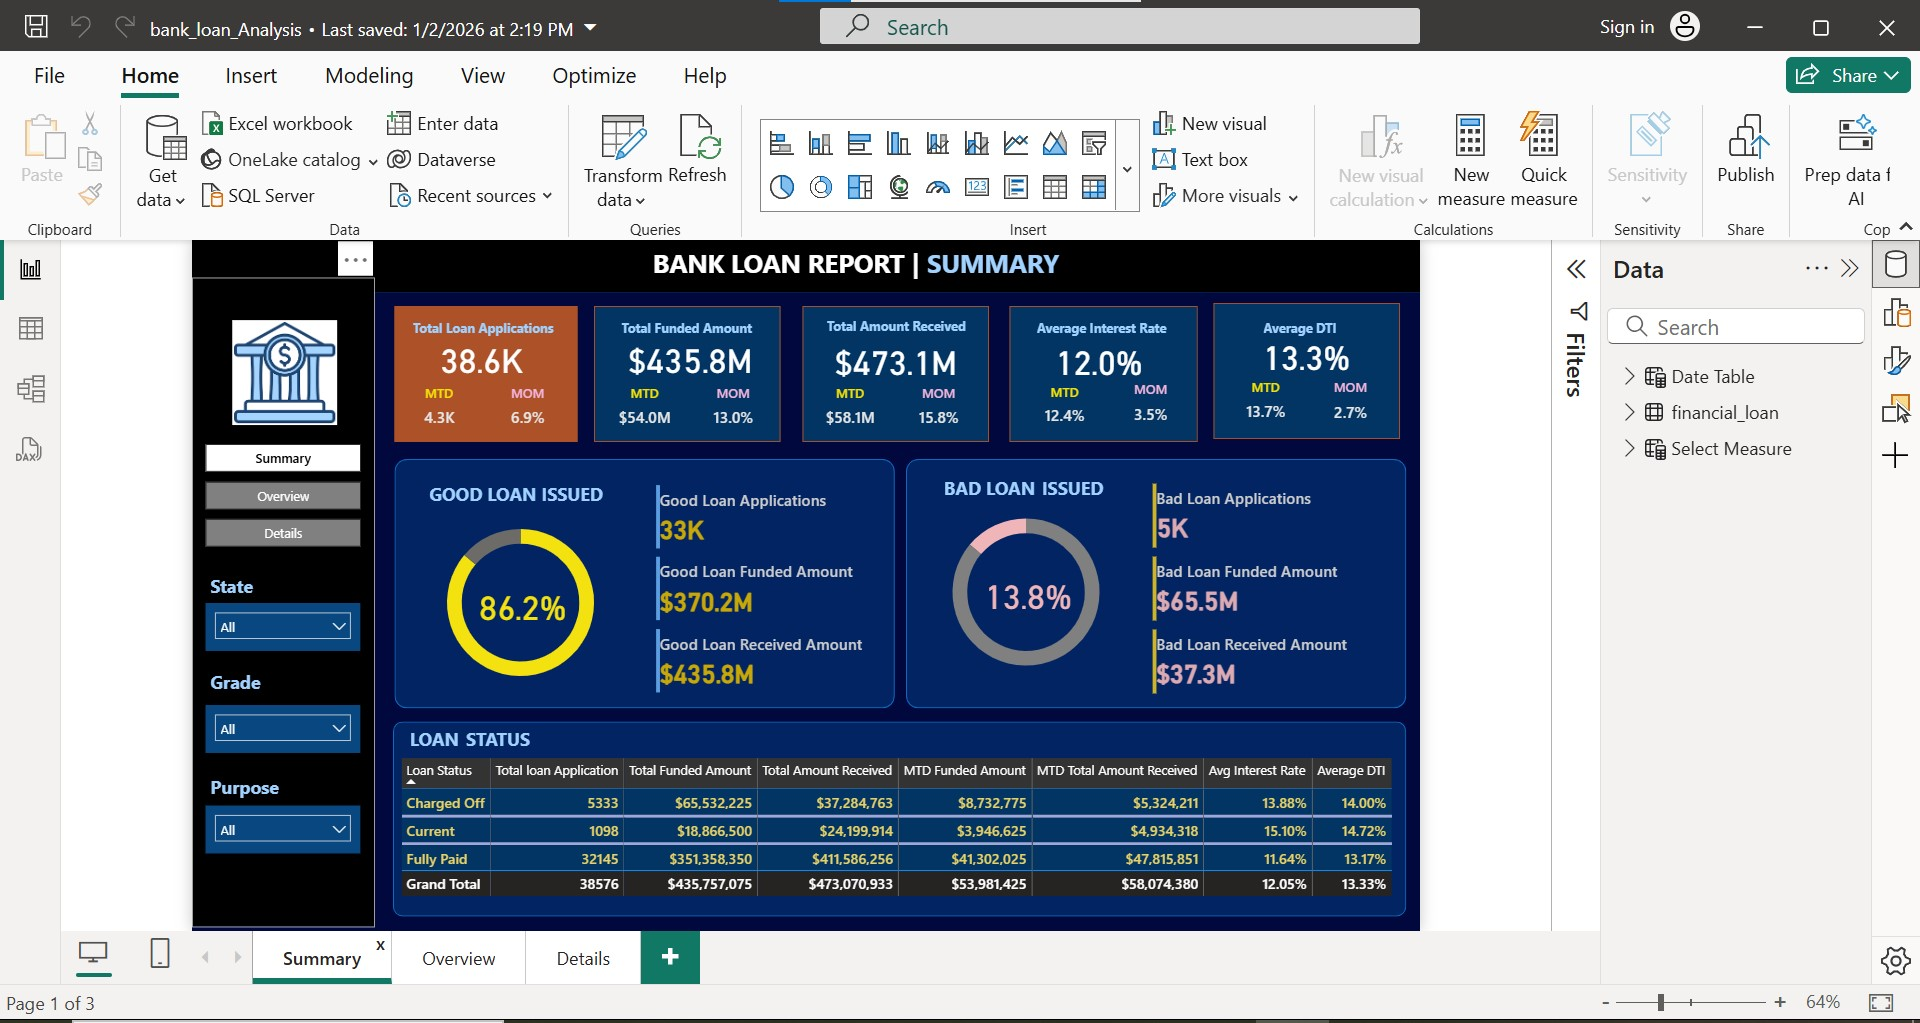

What the dashboard file says about the page in this screenshot:
{"tool":"powerbi","page":{"name":"Summary","canvas":[1280,720],"ordinal":0},"visuals":[{"type":"shape","box":[0,0,1280.7,54.4],"z":0},{"type":"card","fields":{"Values":["financial_loan.Average DTI"]},"box":[1101.3,90.3,118.1,58.1],"z":0,"group":"g3"},{"type":"card","fields":{"Values":["financial_loan.Total loan Application"]},"box":[237.6,93.9,128.1,57.9],"z":0,"group":"g1"},{"type":"card","fields":{"Values":["financial_loan.Avg Interest Rate"]},"box":[866.7,95.2,157.5,58.3],"z":0,"group":"g5"},{"type":"card","fields":{"Values":["financial_loan.Total Funded Amount"]},"box":[447.9,96.9,140.4,52.6],"z":0,"group":"g2"},{"type":"card","fields":{"Values":["financial_loan.Total Amount Received"]},"box":[662.2,97.1,140.4,52.6],"z":0,"group":"g4"},{"type":"textbox","box":[656.8,74.3,163.5,36.3],"z":1000,"group":"g4"},{"type":"textbox","box":[224.1,76,187.1,36.3],"z":1000,"group":"g1"},{"type":"textbox","box":[442.6,76.3,154.7,34],"z":1000,"group":"g2"},{"type":"textbox","box":[876.3,76.3,159.9,41.8],"z":1000,"group":"g5"},{"type":"textbox","box":[1110.8,76.3,98.1,34.5],"z":1000,"group":"g3"},{"type":"textbox","box":[778.1,241,203.4,36.3],"z":1000,"group":"g7"},{"type":"textbox","box":[241.6,247,203.4,36.3],"z":1000,"group":"g6"},{"type":"textbox","box":[234.3,254.3,167.1,23.6],"z":1000},{"type":"textbox","box":[14.2,341.8,91.4,36.2],"z":1000,"group":"g11"},{"type":"textbox","box":[13.3,443,74.9,36.6],"z":1000,"group":"g12"},{"type":"textbox","box":[222.1,501.1,158.2,36.6],"z":1000,"group":"g9"},{"type":"textbox","box":[13.3,551.2,104.9,38.3],"z":1000,"group":"g13"},{"type":"textbox","box":[475.4,0,459.6,54.4],"z":2000},{"type":"card","title":"MTD","fields":{"Values":["financial_loan.MTD Avg DTI"]},"box":[1071.7,144.2,93,54.4],"z":2000,"group":"g3"},{"type":"card","title":"MTD","fields":{"Values":["financial_loan.MTD Avg Int Rate"]},"box":[863.4,148.4,93,54.4],"z":2000,"group":"g5"},{"type":"card","title":"MTD","fields":{"Values":["financial_loan.MTD Funded Amount"]},"box":[425.1,149.5,93,54.4],"z":2000,"group":"g2"},{"type":"card","title":"MTD","fields":{"Values":["financial_loan.MTD Total Amount Received"]},"box":[639.4,149.7,93,54.4],"z":2000,"group":"g4"},{"type":"card","title":"MTD","fields":{"Values":["financial_loan.MTD Loan Applications"]},"box":[210.5,150.1,93,54.4],"z":2000,"group":"g1"},{"type":"donutChart","fields":{"Category":["financial_loan.Good vs Bad Loan"],"Y":["financial_loan.Total loan Application"]},"box":[753.9,266.4,230.7,201.6],"z":2250,"group":"g10"},{"type":"donutChart","fields":{"Category":["financial_loan.Good vs Bad Loan"],"Y":["financial_loan.Total loan Application"]},"box":[227.1,277.2,230.7,201.6],"z":2250,"group":"g8"},{"type":"card","fields":{"Values":["financial_loan.Bad Loan %"]},"box":[739.4,335.3,263.4,69],"z":2500,"group":"g10"},{"type":"card","fields":{"Values":["financial_loan.Good Loan %"]},"box":[212.6,346.1,263.4,69],"z":2500,"group":"g8"},{"type":"shape","box":[210.7,69,190.7,141.7],"z":3000},{"type":"card","title":"MOM","fields":{"Values":["financial_loan.MOM Avg DTI"]},"box":[1164.2,143,85.4,56.3],"z":3000,"group":"g3"},{"type":"card","title":"MOM","fields":{"Values":["financial_loan.MOM Avg Int Rate"]},"box":[956.6,145.3,84.5,57.7],"z":3000,"group":"g5"},{"type":"card","title":"MOM","fields":{"Values":["financial_loan.MOM Total Funded Amount"]},"box":[518.1,149.5,93,54.4],"z":3000,"group":"g2"},{"type":"card","title":"MOM","fields":{"Values":["financial_loan.MOM Total Amount Received"]},"box":[732.4,149.7,93,54.4],"z":3000,"group":"g4"},{"type":"card","title":"MOM","fields":{"Values":["financial_loan.MOM Loan Applications"]},"box":[303.5,150.1,93,54.4],"z":3000,"group":"g1"},{"type":"group","id":"g1","title":"Group 1","box":[210.5,76,200.7,128.5],"z":4000},{"type":"shape","box":[419.6,69,194.4,141.7],"z":5000},{"type":"group","id":"g2","title":"Group 1","box":[425.1,76.3,185.3,127.2],"z":6000},{"type":"shape","box":[635.8,69,194.4,141.7],"z":7000},{"type":"shape","box":[851.9,69,196.2,141.7],"z":8000},{"type":"shape","box":[1064.5,65.4,194.4,141.7],"z":9000},{"type":"group","id":"g3","title":"Group 1","box":[1071.7,76.3,177.9,123],"z":10000},{"type":"shape","box":[744.8,228.9,521.3,259.8],"z":11000},{"type":"shape","box":[210.7,228.9,521.3,259.8],"z":12000},{"type":"group","id":"g4","title":"Group 1","box":[639.4,74.3,186,129.8],"z":13000},{"type":"group","id":"g5","title":"Group 1","box":[863.4,76.3,178,127.2],"z":14000},{"type":"group","id":"g6","title":"Group 1","box":[241.6,247,203.4,36.3],"z":15000},{"type":"shape","box":[209.8,501.2,1055.8,203.2],"z":16000},{"type":"cardVisual","fields":{"Data":["financial_loan.Good Loan Applications","financial_loan.Good Loan Funded Amount","financial_loan.Good Loan Received Amount"]},"box":[478.3,250.1,254.8,228.2],"z":17000},{"type":"group","id":"g7","title":"Group 1","box":[778.1,241,203.2,36.2],"z":18000},{"type":"group","id":"g8","title":"Group 2","box":[212.6,277.2,263,201.6],"z":19000},{"type":"cardVisual","fields":{"Data":["financial_loan.Bad Loan Applications","financial_loan.Bad Loan Funded Amount","financial_loan.Bad Loan Received Amount"]},"box":[995.6,248.5,254.8,231.3],"z":20000},{"type":"tableEx","fields":{"Values":["financial_loan.loan_status","financial_loan.Total loan Application","financial_loan.Total Funded Amount","financial_loan.Total Amount Received","financial_loan.MTD Funded Amount","financial_loan.MTD Total Amount Received","financial_loan.Avg Interest Rate","financial_loan.Average DTI"]},"box":[213.2,534.5,1045.8,158.2],"z":21000},{"type":"group","id":"g9","title":"Group 1","box":[222.1,501.1,158.2,36.6],"z":22000},{"type":"shape","box":[0,39.4,190.6,675.7],"z":23000},{"type":"group","id":"g10","title":"Group 2","box":[739.4,266.4,263.1,203.2],"z":24000},{"type":"slicer","fields":{"Values":["financial_loan.address_state"]},"box":[13.3,378,161.5,50],"z":25000},{"type":"group","id":"g11","title":"Group 1","box":[14.2,341.8,91.4,36.2],"z":26000},{"type":"slicer","fields":{"Values":["financial_loan.grade"]},"box":[13.3,484.6,161.5,50],"z":27000},{"type":"group","id":"g12","title":"Group 1","box":[13.3,443,74.9,36.6],"z":28000},{"type":"slicer","fields":{"Values":["financial_loan.purpose"]},"box":[13.3,589.5,161.5,50],"z":29000},{"type":"group","id":"g13","title":"Group 1","box":[13.3,551.2,104.9,38.3],"z":30000},{"type":"image","box":[31.5,78.8,130.7,119.7],"z":30001},{"type":"pageNavigator","box":[14.2,212.6,162.2,107.1],"z":30002}]}

Visuals, with their boxes on the page's 1280x720 design canvas (x1, y1, x2, y2). These are canvas units, not pixel positions in the 1920x1023 screenshot, which may show the page scaled, cropped or inside an application window:
shape: detection(0, 0, 1281, 54)
card - financial_loan.Average DTI: detection(1101, 90, 1219, 148)
card - financial_loan.Total loan Application: detection(238, 94, 366, 152)
card - financial_loan.Avg Interest Rate: detection(867, 95, 1024, 154)
card - financial_loan.Total Funded Amount: detection(448, 97, 588, 150)
card - financial_loan.Total Amount Received: detection(662, 97, 803, 150)
textbox: detection(657, 74, 820, 111)
textbox: detection(224, 76, 411, 112)
textbox: detection(443, 76, 597, 110)
textbox: detection(876, 76, 1036, 118)
textbox: detection(1111, 76, 1209, 111)
textbox: detection(778, 241, 982, 277)
textbox: detection(242, 247, 445, 283)
textbox: detection(234, 254, 401, 278)
textbox: detection(14, 342, 106, 378)
textbox: detection(13, 443, 88, 480)
textbox: detection(222, 501, 380, 538)
textbox: detection(13, 551, 118, 590)
textbox: detection(475, 0, 935, 54)
"MTD" card: detection(1072, 144, 1165, 199)
"MTD" card: detection(863, 148, 956, 203)
"MTD" card: detection(425, 150, 518, 204)
"MTD" card: detection(639, 150, 732, 204)
"MTD" card: detection(210, 150, 304, 204)
donutChart - financial_loan.Good vs Bad Loan x financial_loan.Total loan Application: detection(754, 266, 985, 468)
donutChart - financial_loan.Good vs Bad Loan x financial_loan.Total loan Application: detection(227, 277, 458, 479)
card - financial_loan.Bad Loan %: detection(739, 335, 1003, 404)
card - financial_loan.Good Loan %: detection(213, 346, 476, 415)
shape: detection(211, 69, 401, 211)
"MOM" card: detection(1164, 143, 1250, 199)
"MOM" card: detection(957, 145, 1041, 203)
"MOM" card: detection(518, 150, 611, 204)
"MOM" card: detection(732, 150, 825, 204)
"MOM" card: detection(304, 150, 396, 204)
"Group 1" group: detection(210, 76, 411, 204)
shape: detection(420, 69, 614, 211)
"Group 1" group: detection(425, 76, 610, 204)
shape: detection(636, 69, 830, 211)
shape: detection(852, 69, 1048, 211)
shape: detection(1064, 65, 1259, 207)
"Group 1" group: detection(1072, 76, 1250, 199)
shape: detection(745, 229, 1266, 489)
shape: detection(211, 229, 732, 489)
"Group 1" group: detection(639, 74, 825, 204)
"Group 1" group: detection(863, 76, 1041, 204)
"Group 1" group: detection(242, 247, 445, 283)
shape: detection(210, 501, 1266, 704)
cardVisual - financial_loan.Good Loan Applications x financial_loan.Good Loan Funded Amount: detection(478, 250, 733, 478)
"Group 1" group: detection(778, 241, 981, 277)
"Group 2" group: detection(213, 277, 476, 479)
cardVisual - financial_loan.Bad Loan Applications x financial_loan.Bad Loan Funded Amount: detection(996, 248, 1250, 480)
tableEx - financial_loan.loan_status x financial_loan.Total loan Application: detection(213, 534, 1259, 693)
"Group 1" group: detection(222, 501, 380, 538)
shape: detection(0, 39, 191, 715)
"Group 2" group: detection(739, 266, 1002, 470)
slicer - financial_loan.address_state: detection(13, 378, 175, 428)
"Group 1" group: detection(14, 342, 106, 378)
slicer - financial_loan.grade: detection(13, 485, 175, 535)
"Group 1" group: detection(13, 443, 88, 480)
slicer - financial_loan.purpose: detection(13, 590, 175, 640)
"Group 1" group: detection(13, 551, 118, 590)
image: detection(32, 79, 162, 198)
pageNavigator: detection(14, 213, 176, 320)
